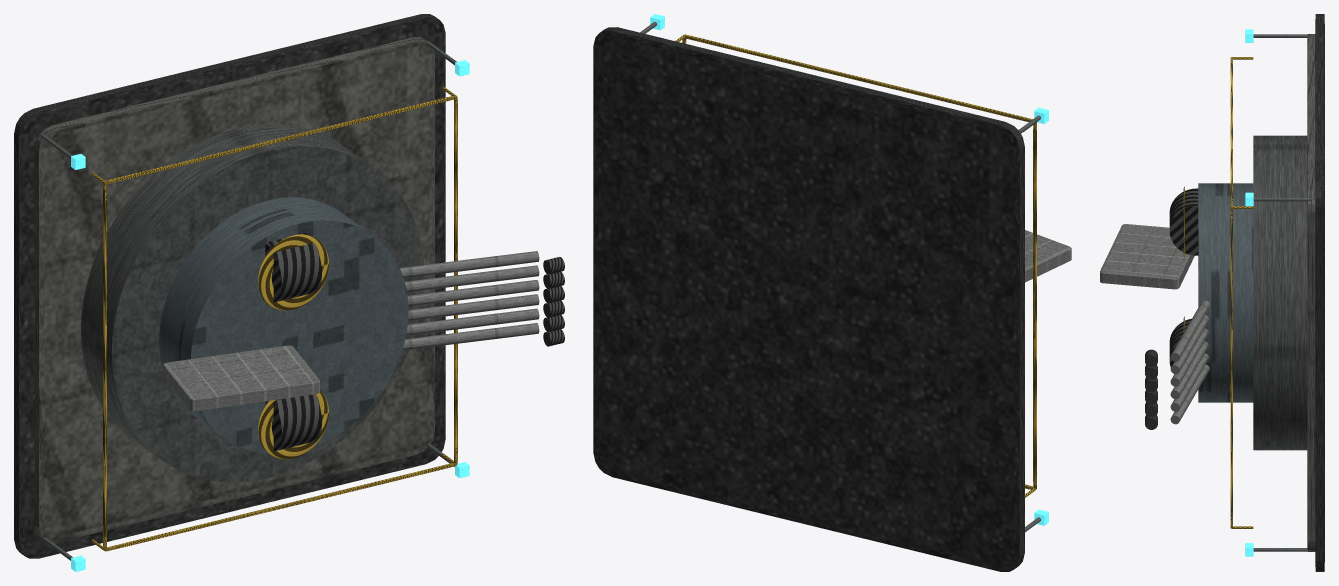
File: b-31-aa-turret-lod0.glb
3 renders of one model, left to right at view 1: azimuth 30°, elevation 25°; view 2: azimuth 150°, elevation 25°; view 3: azimuth 270°, elevation 25°, orthographic. The views are drawn at different scales.
Parts seen in each view (by area): view 1: foundation_inner_pad, turret_base, primary_turret_yaw, foundation, aa_radar, ammo_drum_1.5_vessel, ammo_drum_-1.5_vessel, ammo_drum_1.5_ring_high, turret_service_railing_rail_x_3.7, turret_service_railing_rail_x_-3.7, aa_gun_barrel_5, aa_gun_barrel_0 (+7 smaller); view 2: foundation, turret_service_railing_rail_x_3.7, turret_service_railing_rail_y_-3.7, aa_radar; view 3: turret_base, primary_turret_yaw, foundation, foundation_inner_pad, aa_radar, ammo_drum_1.5_vessel, turret_service_railing_rail_y_3.7, aa_gun_barrel_5, aa_gun_barrel_0, aa_gun_barrel_4, aa_gun_barrel_1, aa_gun_barrel_3 (+3 smaller).
Part boxes in pixels (x1,y1,x2,y2): foundation_inner_pad: (34,37,434,542); turret_base: (81,124,424,482); primary_turret_yaw: (159,197,408,454); foundation: (14,14,445,558); aa_radar: (163,345,319,411); ammo_drum_1.5_vessel: (265,233,321,302); ammo_drum_-1.5_vessel: (265,394,321,451); ammo_drum_1.5_ring_high: (258,234,328,310); turret_service_railing_rail_x_3.7: (105,95,456,183); turret_service_railing_rail_x_-3.7: (105,463,456,551); aa_gun_barrel_5: (400,251,539,278); aa_gun_barrel_0: (402,323,539,350); foundation: (593,27,1024,571); turret_service_railing_rail_x_3.7: (684,34,1032,121); turret_service_railing_rail_y_-3.7: (1033,122,1036,488); aa_radar: (1025,230,1071,282); turret_base: (1253,135,1307,450); primary_turret_yaw: (1198,183,1253,402); foundation: (1315,14,1324,571); foundation_inner_pad: (1307,34,1315,551); aa_radar: (1100,224,1194,289); ammo_drum_1.5_vessel: (1169,188,1198,255); turret_service_railing_rail_y_3.7: (1230,207,1232,527); aa_gun_barrel_5: (1170,300,1209,361); aa_gun_barrel_0: (1170,364,1209,424); aa_gun_barrel_4: (1170,315,1208,373); aa_gun_barrel_1: (1170,353,1208,411); aa_gun_barrel_3: (1170,328,1208,386).
Size of what is drawn, in the model's own units: 9.45 by 9 by 4.71.
9 materials, 9 textured.
